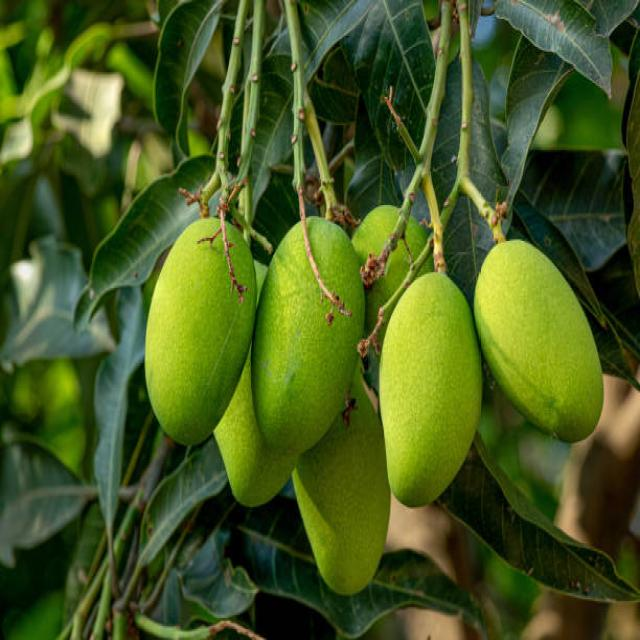mango: (251, 217, 365, 454), (474, 239, 604, 440), (145, 217, 256, 444), (380, 273, 482, 506), (292, 367, 390, 594), (214, 352, 298, 506)
